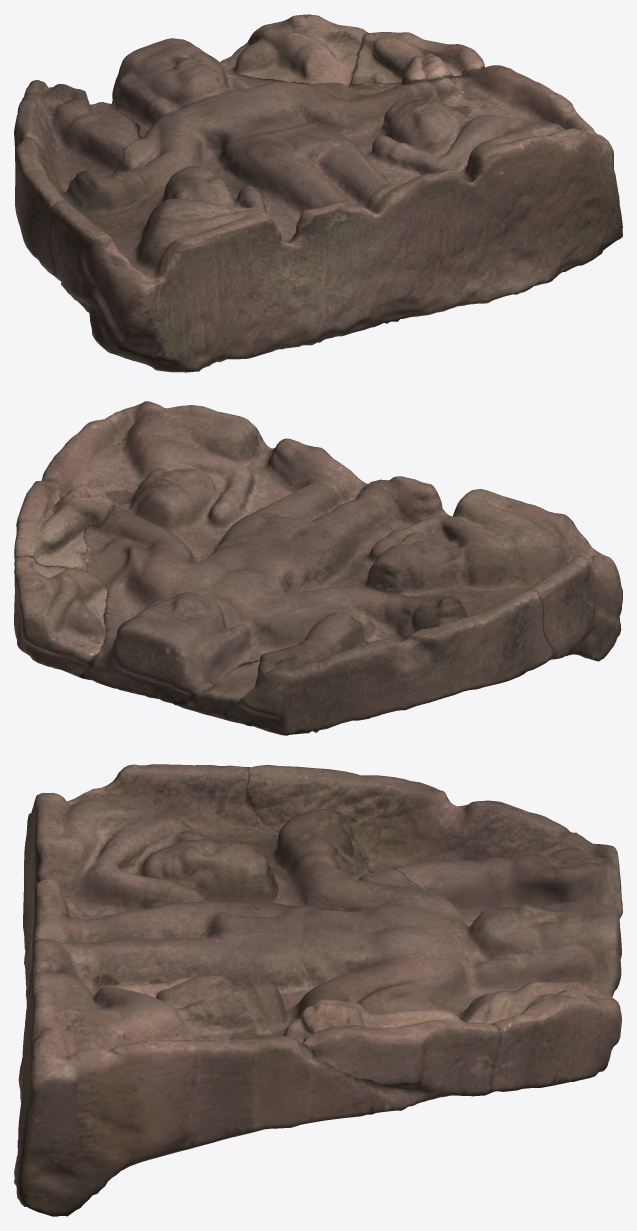
File: MysonMuseum_warehousephudieu3_final.glb
The picture shows the model from 3 angles, top to bottom: view 1: azimuth 30°, elevation 25°; view 2: azimuth 150°, elevation 25°; view 3: azimuth 270°, elevation 25°; orthographic projection. The views are drawn at different scales.
Size of the model in its own units: 0.6534 by 0.1889 by 0.517.
1 material, 1 textured.
